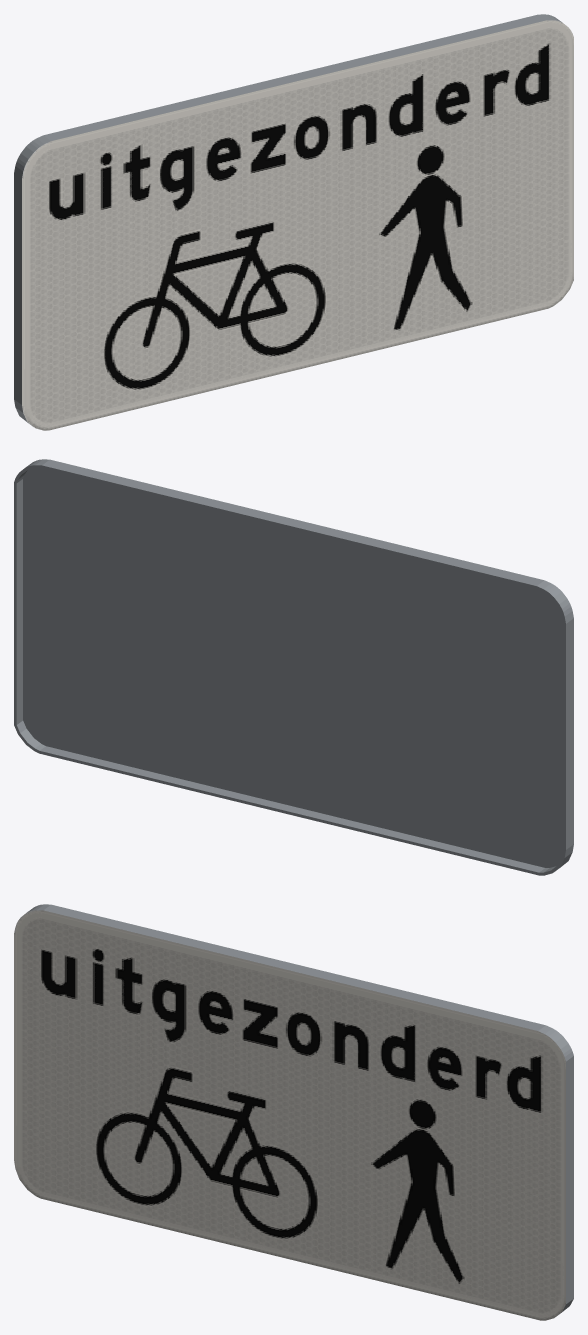
The picture shows the model from 3 angles, top to bottom: view 1: azimuth 30°, elevation 25°; view 2: azimuth 150°, elevation 25°; view 3: azimuth 330°, elevation 25°; orthographic projection.
Visible parts, largest first — view 1: cat_c68697b442ce6cbd; view 2: cat_c68697b442ce6cbd; view 3: cat_c68697b442ce6cbd.
Boxes of the visible parts, box(x1,y1,x2,y2) form: cat_c68697b442ce6cbd: box(14, 14, 573, 430); cat_c68697b442ce6cbd: box(14, 459, 573, 875); cat_c68697b442ce6cbd: box(14, 904, 573, 1320).
Bounding box in the file's own units: 0.6 × 0.015 × 0.3.
Materials: 2 (1 with a texture image).
